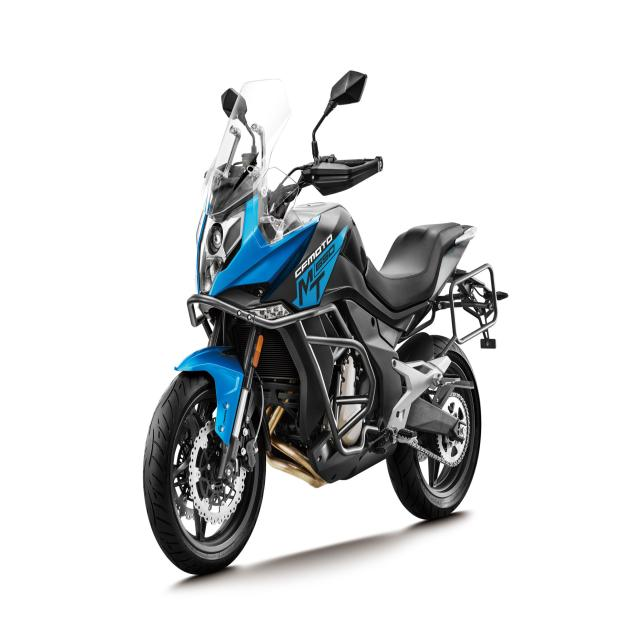Motorcycle: (142, 78, 506, 576)
